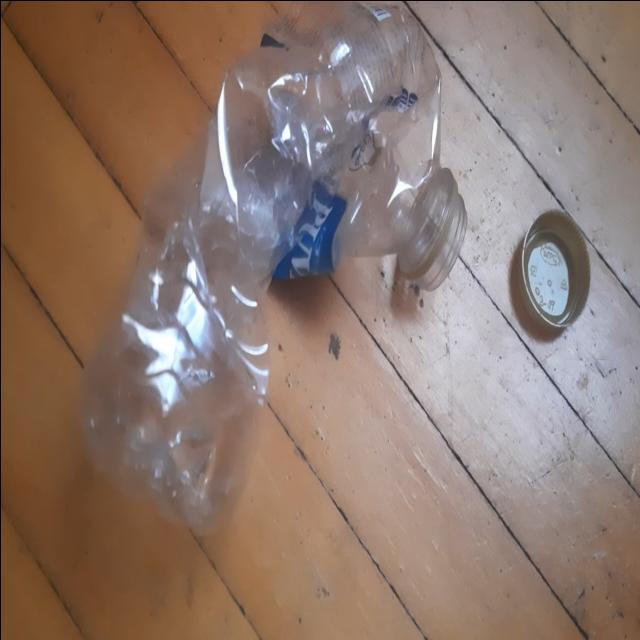Plastic: (79, 2, 462, 536)
